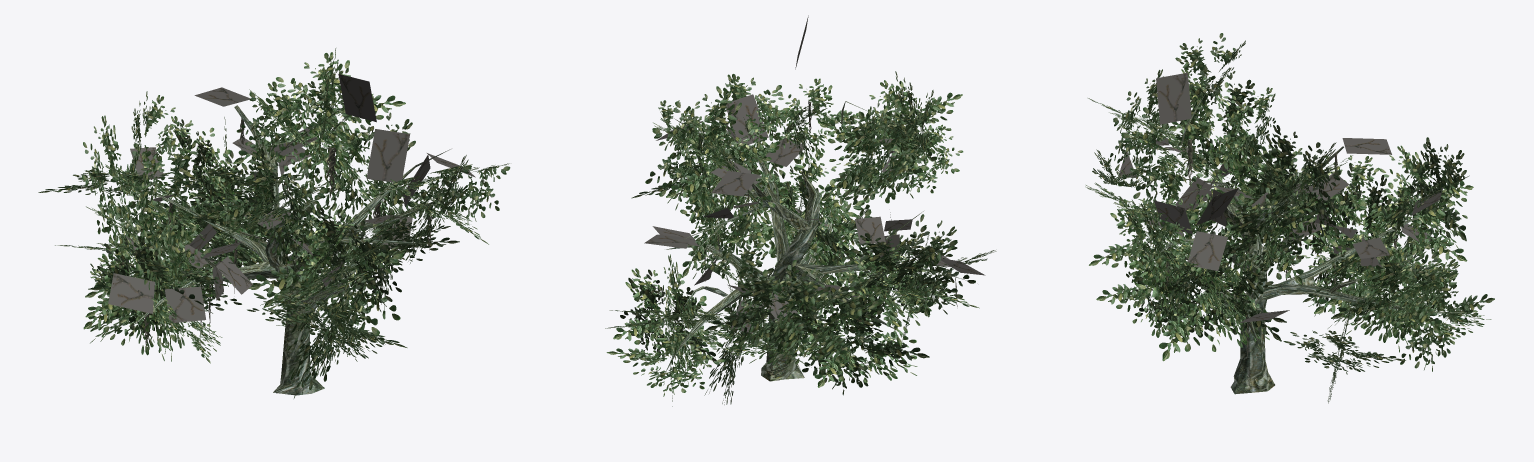
Rendered from tree06.FBX.
3 renders of one model, left to right at view 1: azimuth 30°, elevation 25°; view 2: azimuth 150°, elevation 25°; view 3: azimuth 270°, elevation 25°, orthographic. The views are drawn at different scales.
Visible parts, largest first — view 1: objmesh_SampleLeaves_021, asdf, objmesh_dashu01, objmesh_Vines_01; view 2: objmesh_SampleLeaves_021, objmesh_dashu01, asdf; view 3: objmesh_SampleLeaves_021, asdf, objmesh_dashu01, objmesh_Vines_01.
Boxes of the visible parts, x1=… form: objmesh_SampleLeaves_021: x1=38, y1=48, x2=510, y2=398; asdf: x1=108, y1=74, x2=475, y2=322; objmesh_dashu01: x1=124, y1=105, x2=468, y2=395; objmesh_Vines_01: x1=144, y1=118, x2=432, y2=347; objmesh_SampleLeaves_021: x1=605, y1=71, x2=996, y2=406; objmesh_dashu01: x1=665, y1=101, x2=973, y2=381; asdf: x1=644, y1=15, x2=985, y2=333; objmesh_SampleLeaves_021: x1=1085, y1=33, x2=1494, y2=403; asdf: x1=1118, y1=72, x2=1443, y2=322; objmesh_dashu01: x1=1138, y1=93, x2=1466, y2=394; objmesh_Vines_01: x1=1166, y1=138, x2=1397, y2=358.
Bounding box in the file's own units: 26.31 × 26.19 × 20.39.
